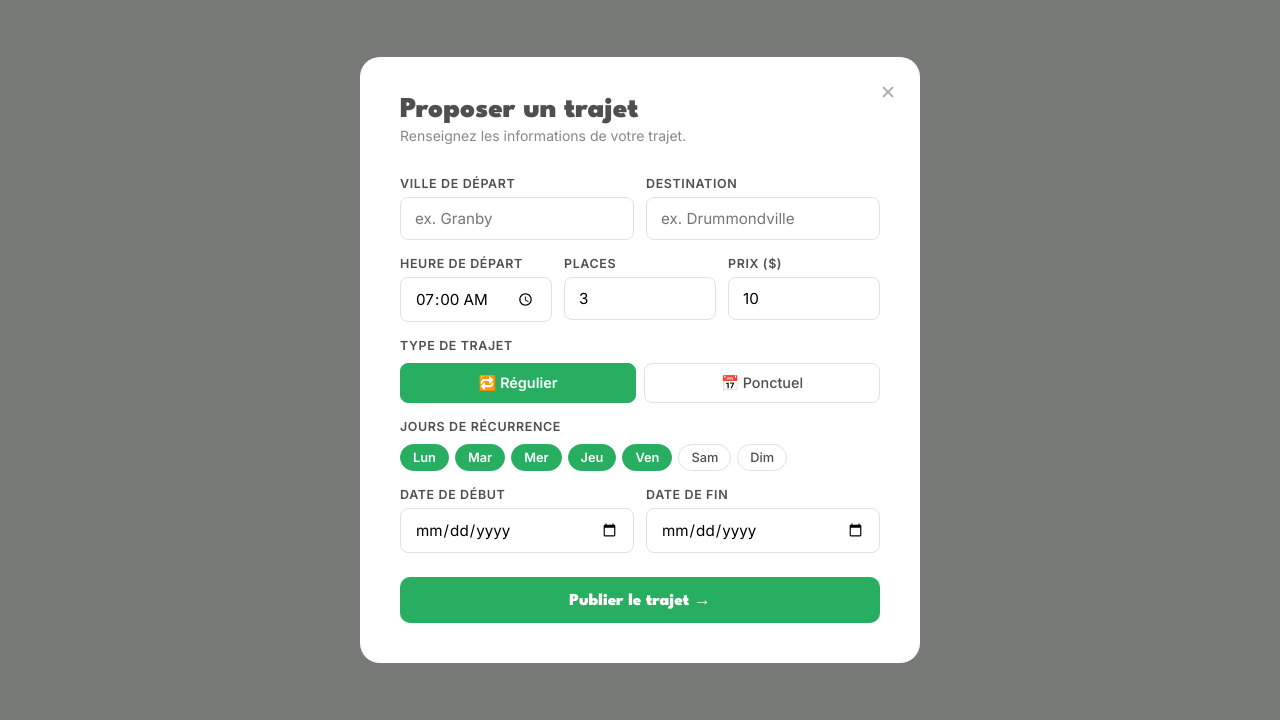
Scenario: CreateTrajetModal › affiche le champ date ponctuelle si on sélectionne PONCTUEL
Click the button "📅 Ponctuel" at [762, 384], box [644, 364, 880, 404]
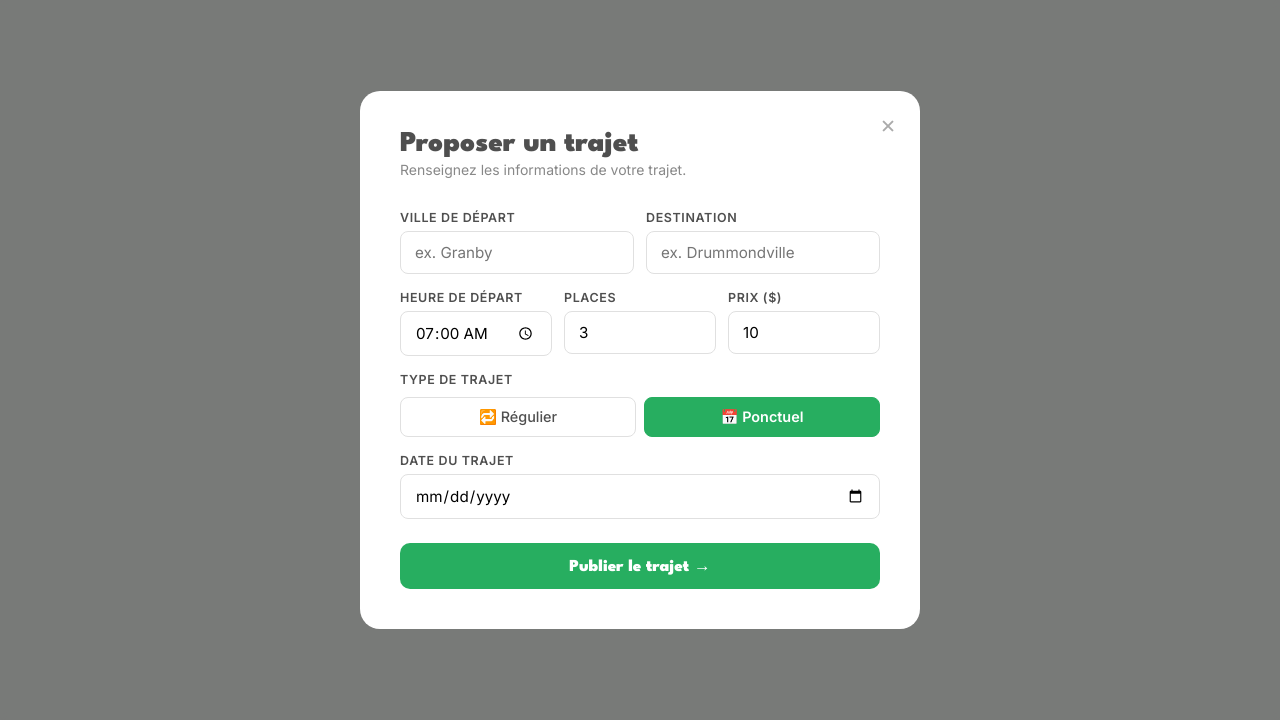
Now the date field labelled "Date du trajet" is shown, box [400, 474, 880, 520]
